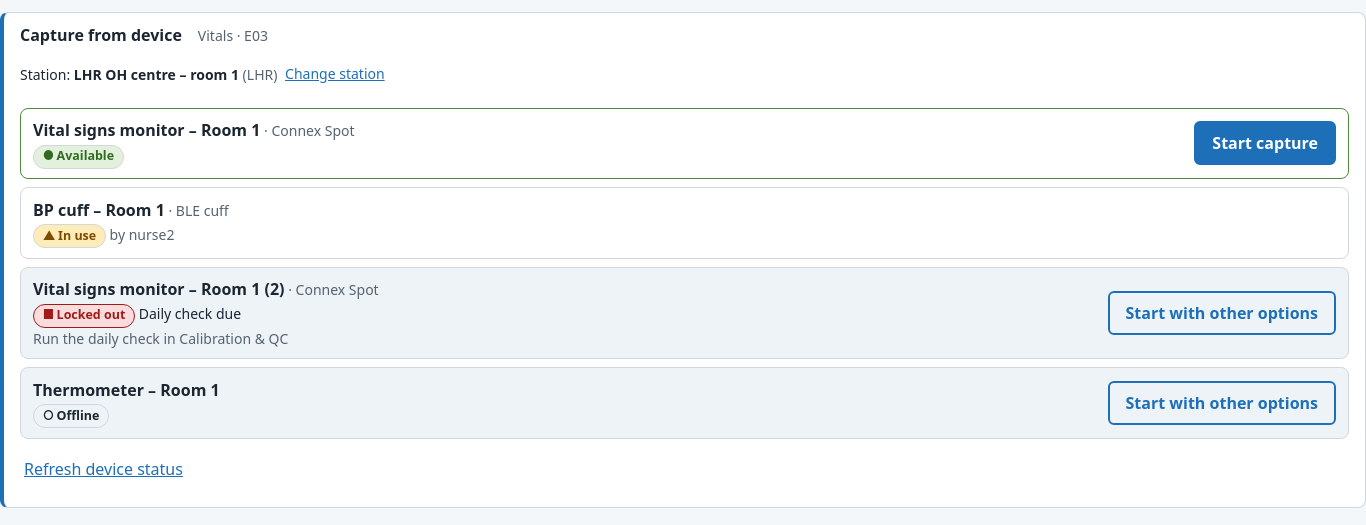
Scenario: Capture from device – device list › lists the station devices with status only (no technical settings) and opens a session on an available device
Expected: the text "Available" is shown, [57, 147, 114, 164]
Expected: the text "In use" is shown, [58, 227, 96, 244]
Click the button "Start capture": (1265,143) [1194, 121, 1336, 165]
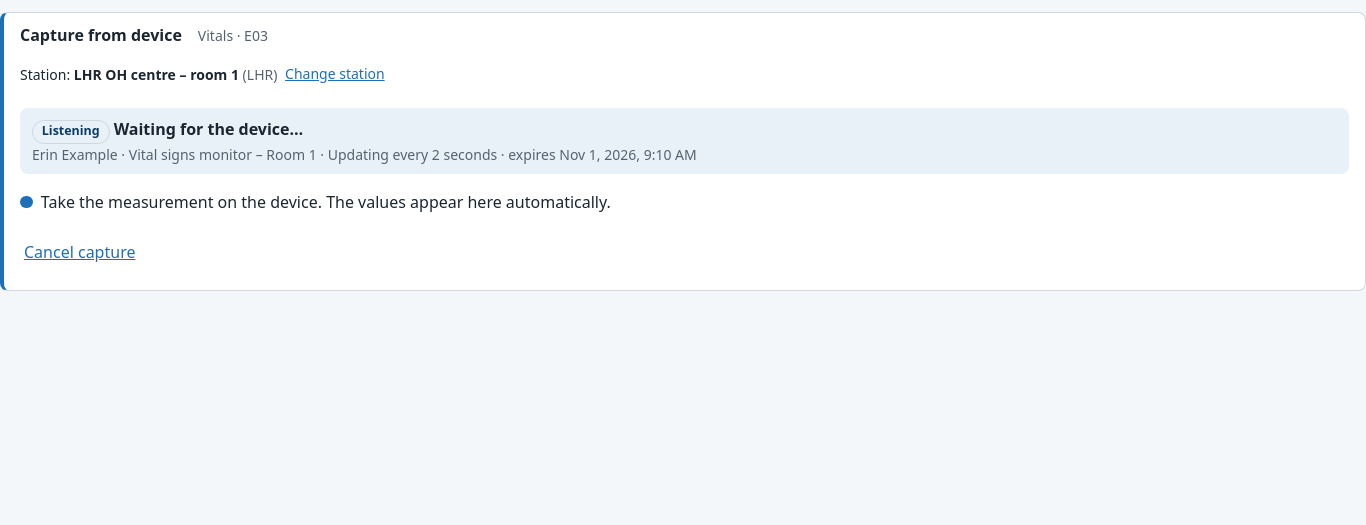
Now the text "Waiting for the device…" is shown, box [114, 118, 303, 140]
Now the text "Updating every 2 seconds" is shown, box [328, 144, 497, 164]
